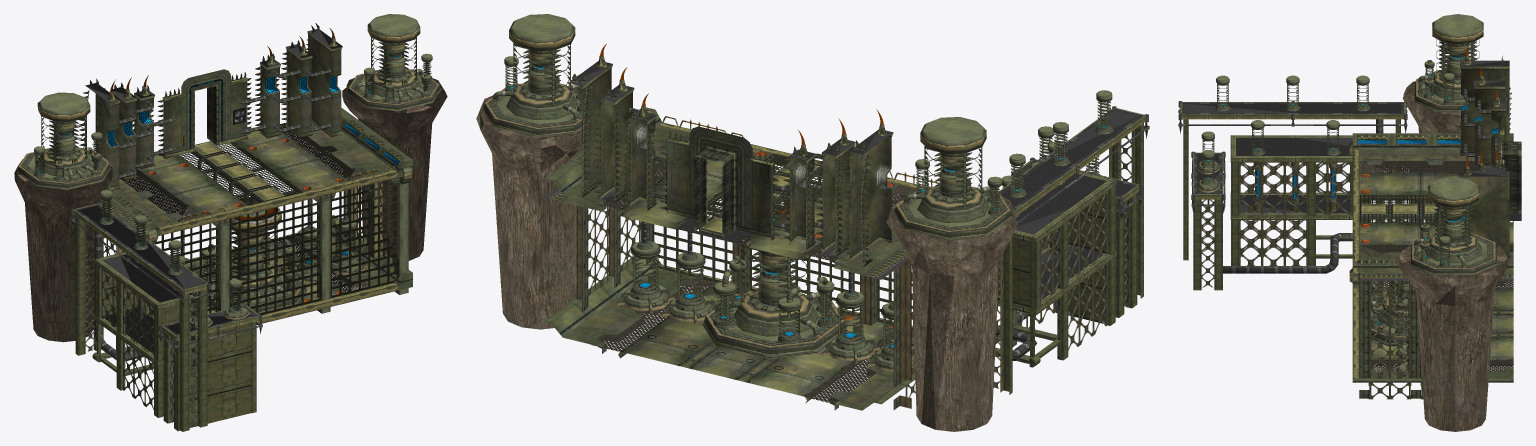
Rendered from stg610_21.obj.
The picture shows the model from 3 angles, left to right: view 1: azimuth 30°, elevation 25°; view 2: azimuth 150°, elevation 25°; view 3: azimuth 270°, elevation 25°; orthographic projection. The views are drawn at different scales.
Visible parts, largest first — view 1: polygon21, polygon63, polygon90, polygon117, polygon99, polygon31, polygon97, polygon135, polygon150, polygon23, polygon38, polygon60 (+54 smaller); view 2: polygon21, polygon23, polygon46, polygon38, polygon64, polygon132, polygon31, polygon135, polygon150, polygon20, polygon106, polygon63 (+43 smaller); view 3: polygon23, polygon63, polygon87, polygon150, polygon38, polygon22, polygon104, polygon135, polygon93, polygon31, polygon103, polygon106 (+43 smaller).
Boxes of the visible parts, bbox=[...] form: polygon21: bbox=[25, 203, 93, 342]; polygon63: bbox=[136, 131, 348, 216]; polygon90: bbox=[229, 196, 321, 314]; polygon117: bbox=[172, 322, 251, 427]; polygon99: bbox=[75, 216, 207, 431]; polygon31: bbox=[260, 35, 341, 133]; polygon97: bbox=[330, 180, 398, 297]; polygon135: bbox=[18, 92, 109, 183]; polygon150: bbox=[348, 14, 439, 105]; polygon23: bbox=[361, 123, 432, 260]; polygon38: bbox=[95, 93, 153, 186]; polygon60: bbox=[108, 123, 393, 227]; polygon21: bbox=[912, 260, 999, 431]; polygon23: bbox=[492, 153, 576, 329]; polygon46: bbox=[618, 282, 893, 403]; polygon38: bbox=[789, 136, 891, 257]; polygon64: bbox=[570, 73, 872, 262]; polygon132: bbox=[706, 212, 844, 347]; polygon31: bbox=[581, 69, 655, 205]; polygon135: bbox=[896, 117, 1010, 232]; polygon150: bbox=[485, 14, 581, 129]; polygon20: bbox=[886, 196, 1017, 275]; polygon106: bbox=[995, 186, 1115, 360]; polygon63: bbox=[618, 148, 901, 260]; polygon23: bbox=[1416, 290, 1494, 431]; polygon63: bbox=[1359, 172, 1513, 250]; polygon87: bbox=[1239, 162, 1307, 265]; polygon150: bbox=[1412, 177, 1495, 268]; polygon38: bbox=[1461, 69, 1509, 164]; polygon22: bbox=[1397, 244, 1510, 305]; polygon104: bbox=[1236, 137, 1352, 213]; polygon135: bbox=[1416, 14, 1483, 105]; polygon93: bbox=[1368, 280, 1423, 399]; polygon31: bbox=[1461, 176, 1509, 257]; polygon103: bbox=[1230, 135, 1352, 219]; polygon106: bbox=[1231, 162, 1352, 265].
Bounding box in the file's own units: 813 × 438 × 566.
29 materials, 29 textured.
